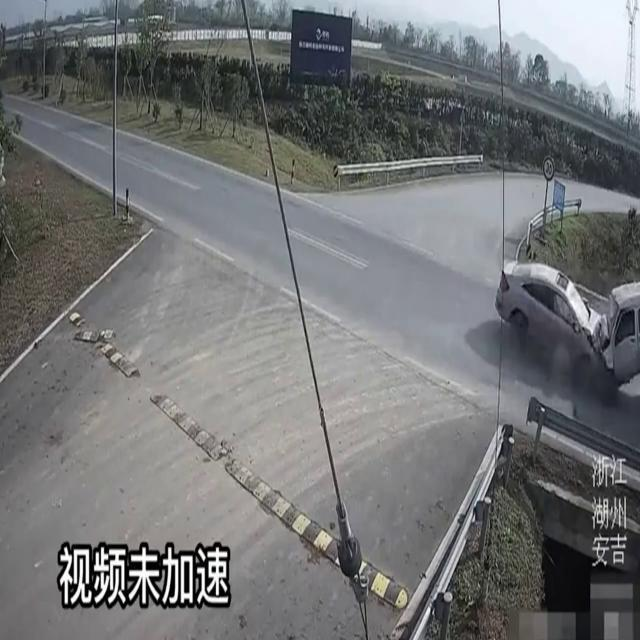accident: (494, 258, 640, 407)
